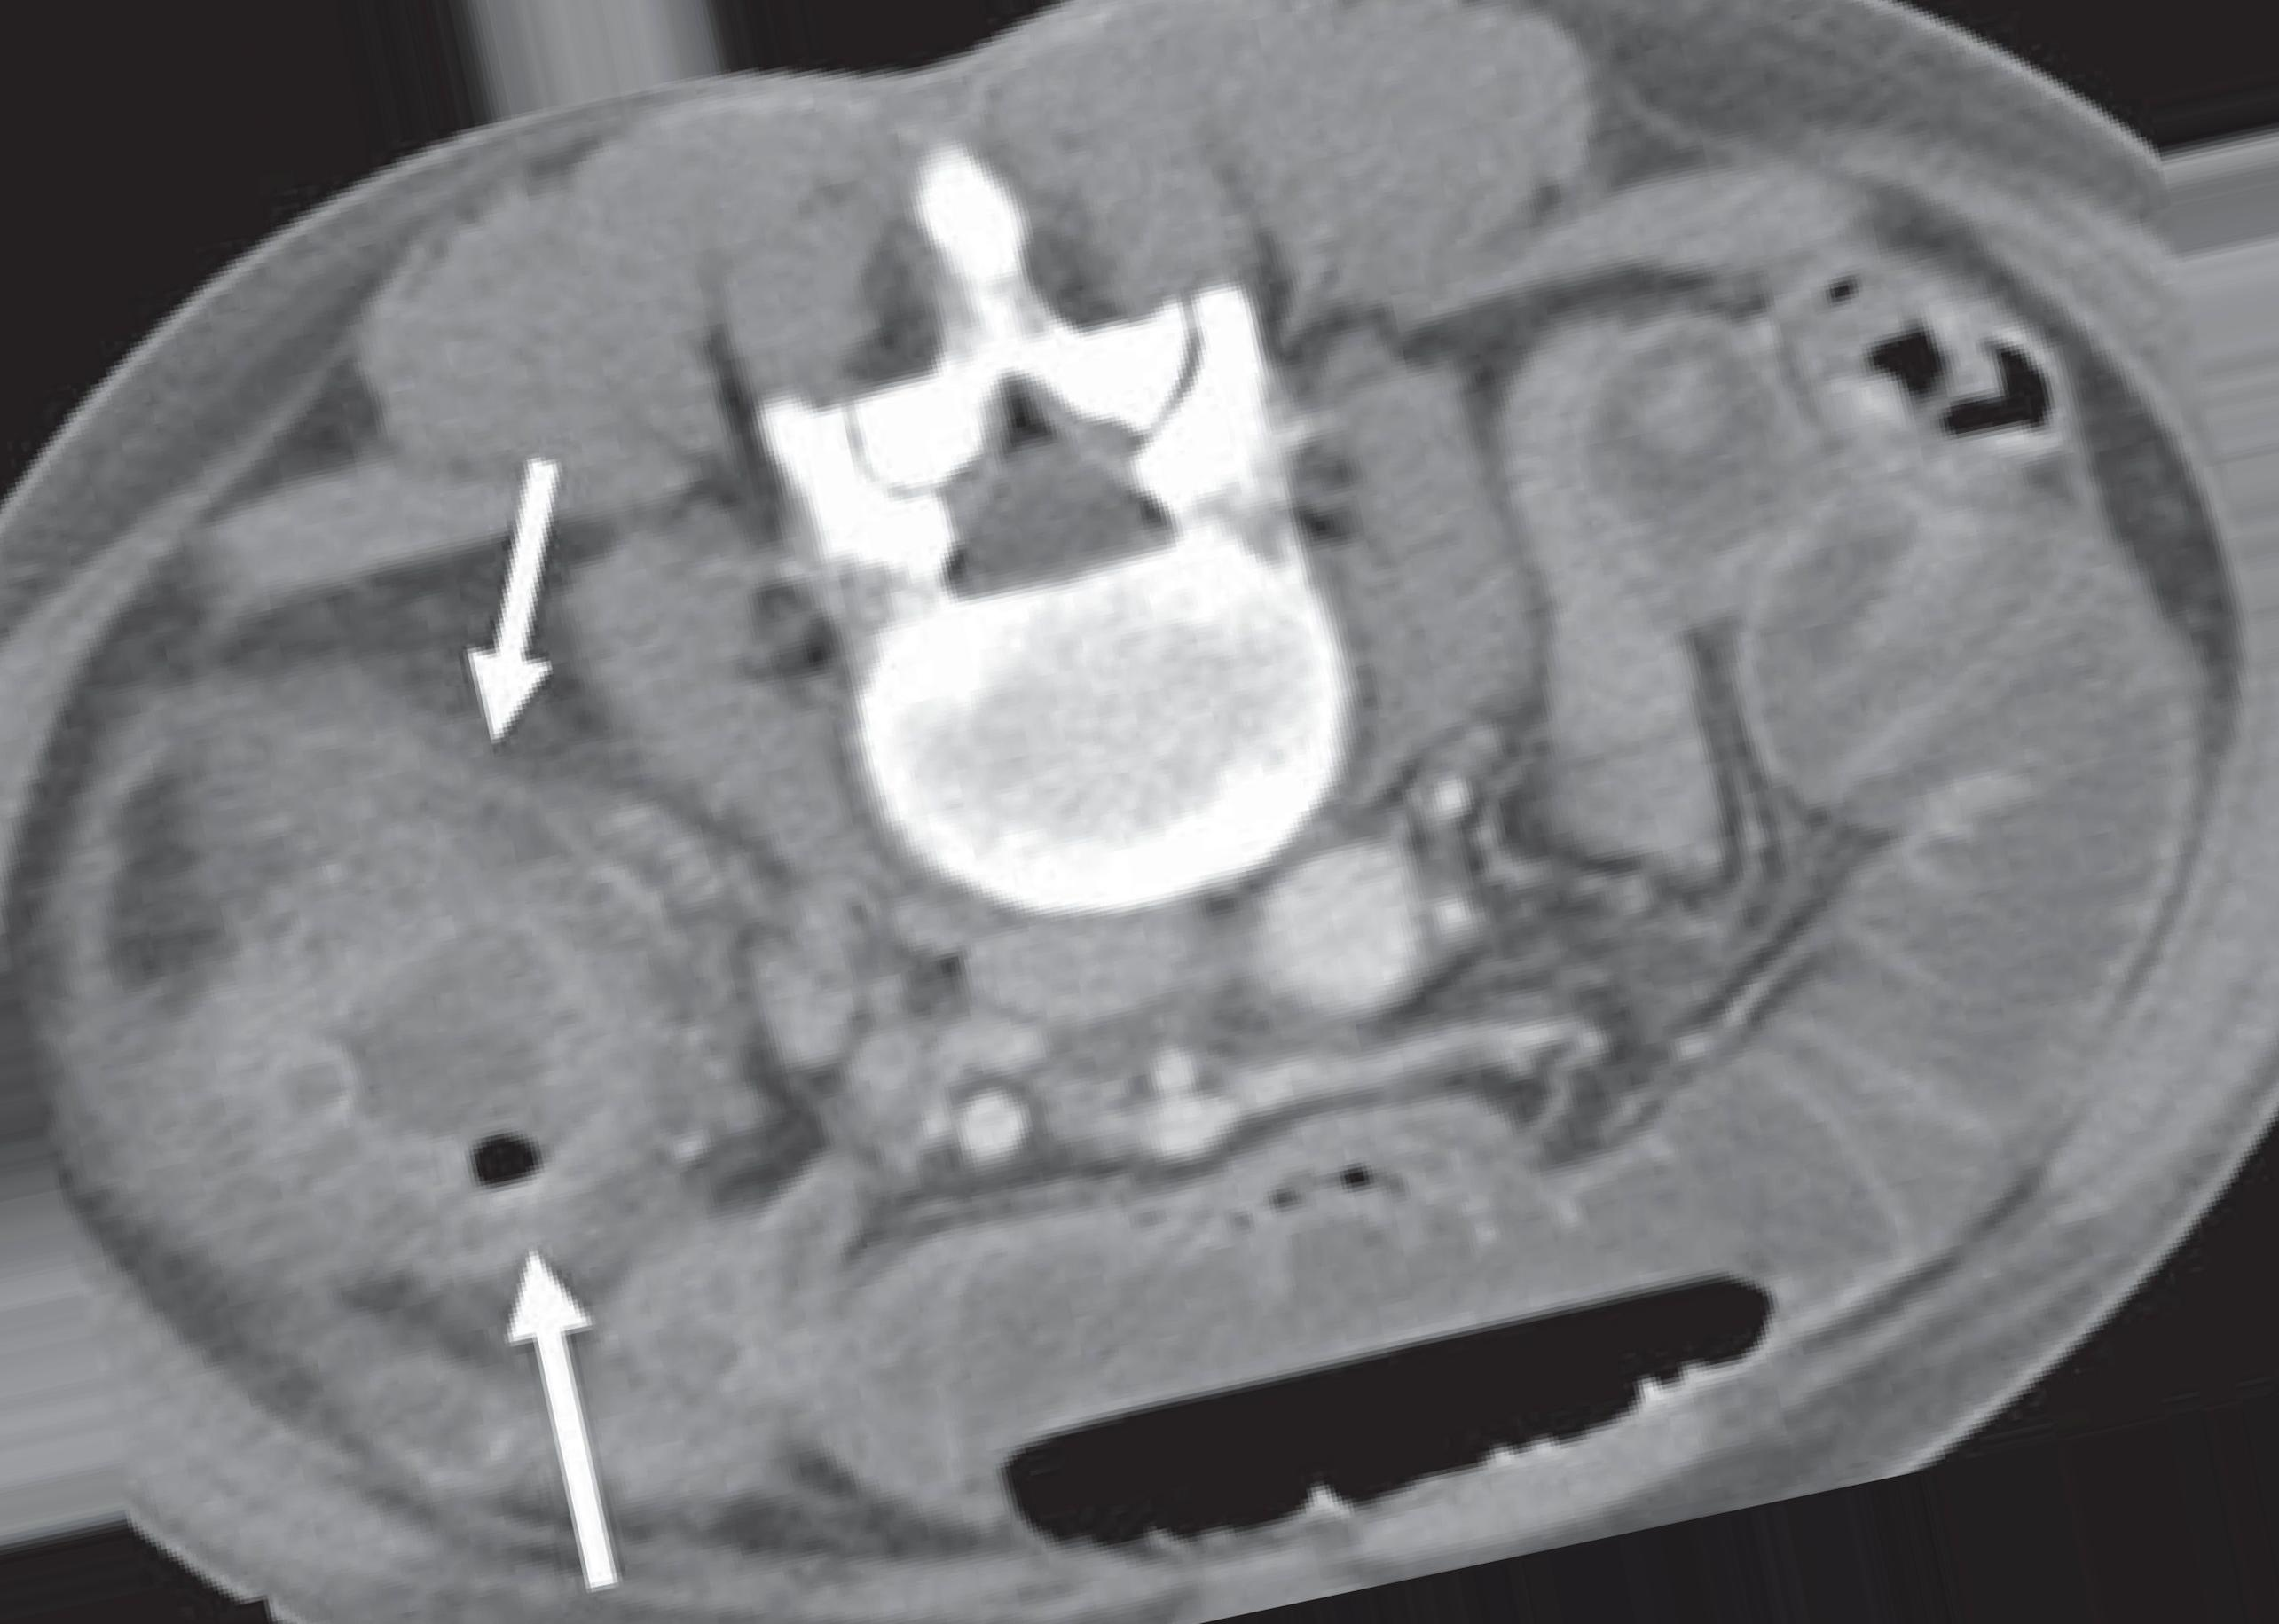anomaly: (309, 926, 606, 1116)
